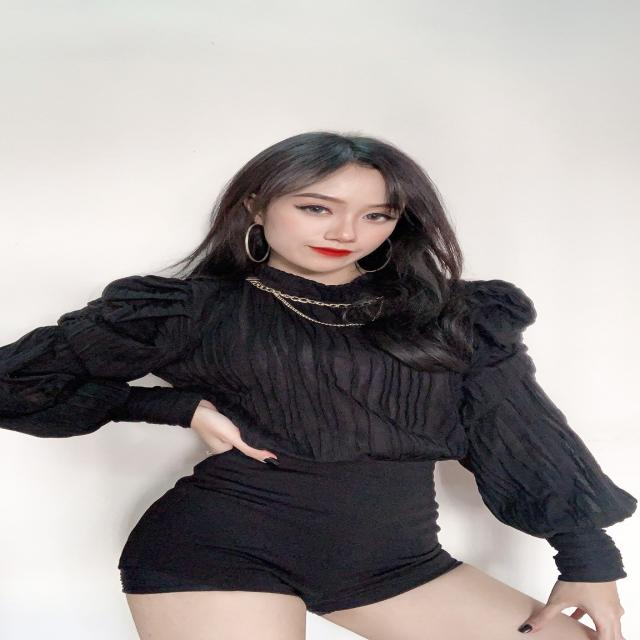clothes: (4, 272, 640, 614)
